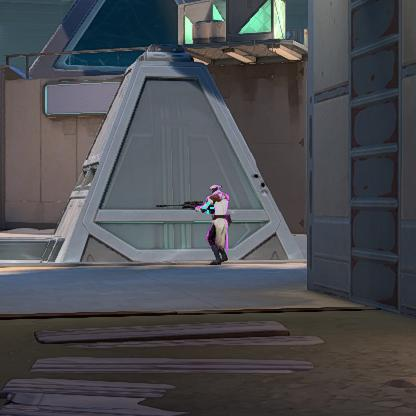enemyBody: (216, 195, 226, 216)
enemyHead: (212, 186, 218, 192)
